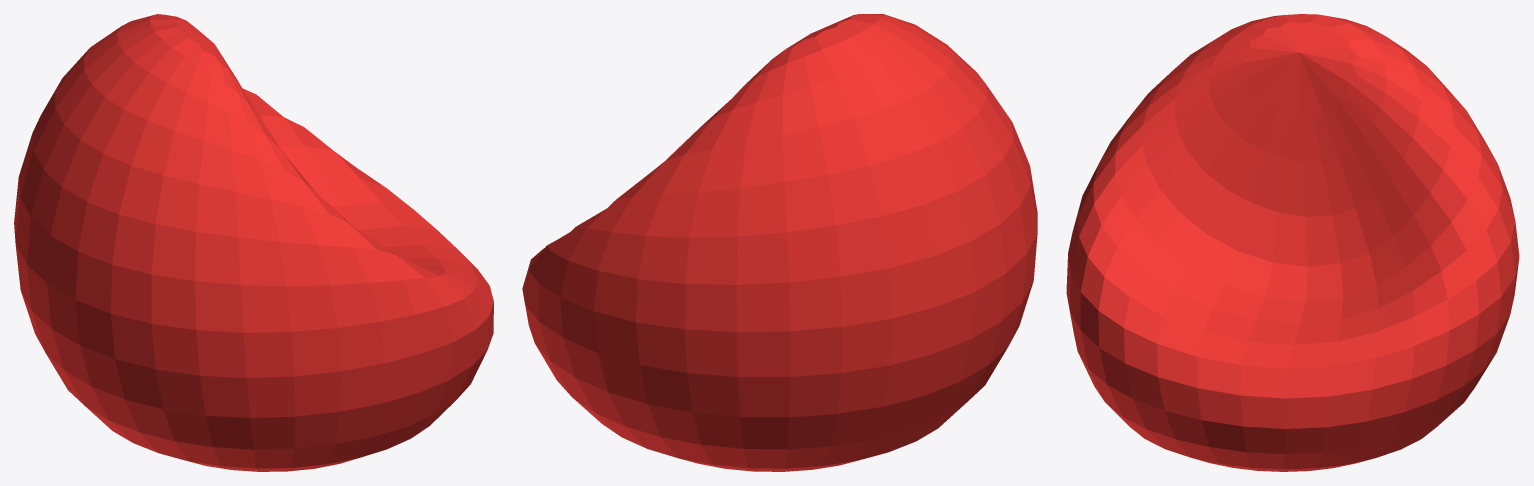
Rendered from Seat.obj.
3 renders of one model, left to right at view 1: azimuth 30°, elevation 25°; view 2: azimuth 150°, elevation 25°; view 3: azimuth 270°, elevation 25°, orthographic. The views are drawn at different scales.
Parts seen in each view (by area): view 1: Seat_Sphere.002; view 2: Seat_Sphere.002; view 3: Seat_Sphere.002.
Boxes of the visible parts, x1,y1,x2,y2 form: Seat_Sphere.002: (14, 14, 493, 471); Seat_Sphere.002: (522, 14, 1037, 471); Seat_Sphere.002: (1066, 14, 1519, 471).
Size of the model in its own units: 1.73 by 1.63 by 1.77.
